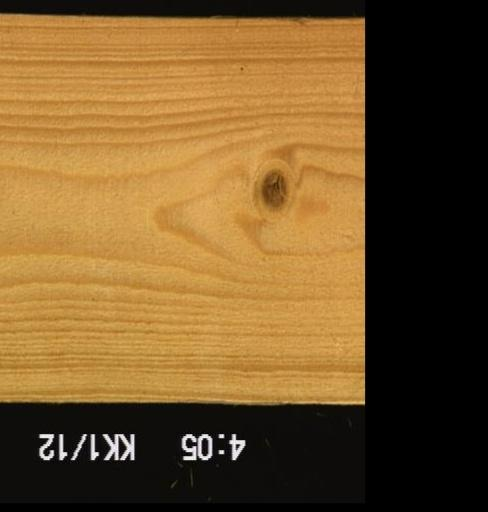sound_knot: (255, 169, 289, 211)
